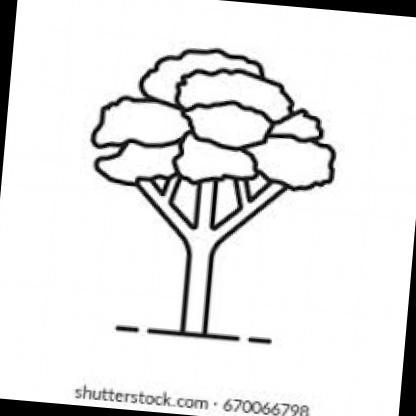branch_cut: (131, 178, 282, 254)
crown_cloud: (86, 40, 344, 202)
root_none: (161, 315, 229, 364)
trunk_straight: (178, 255, 218, 329)
